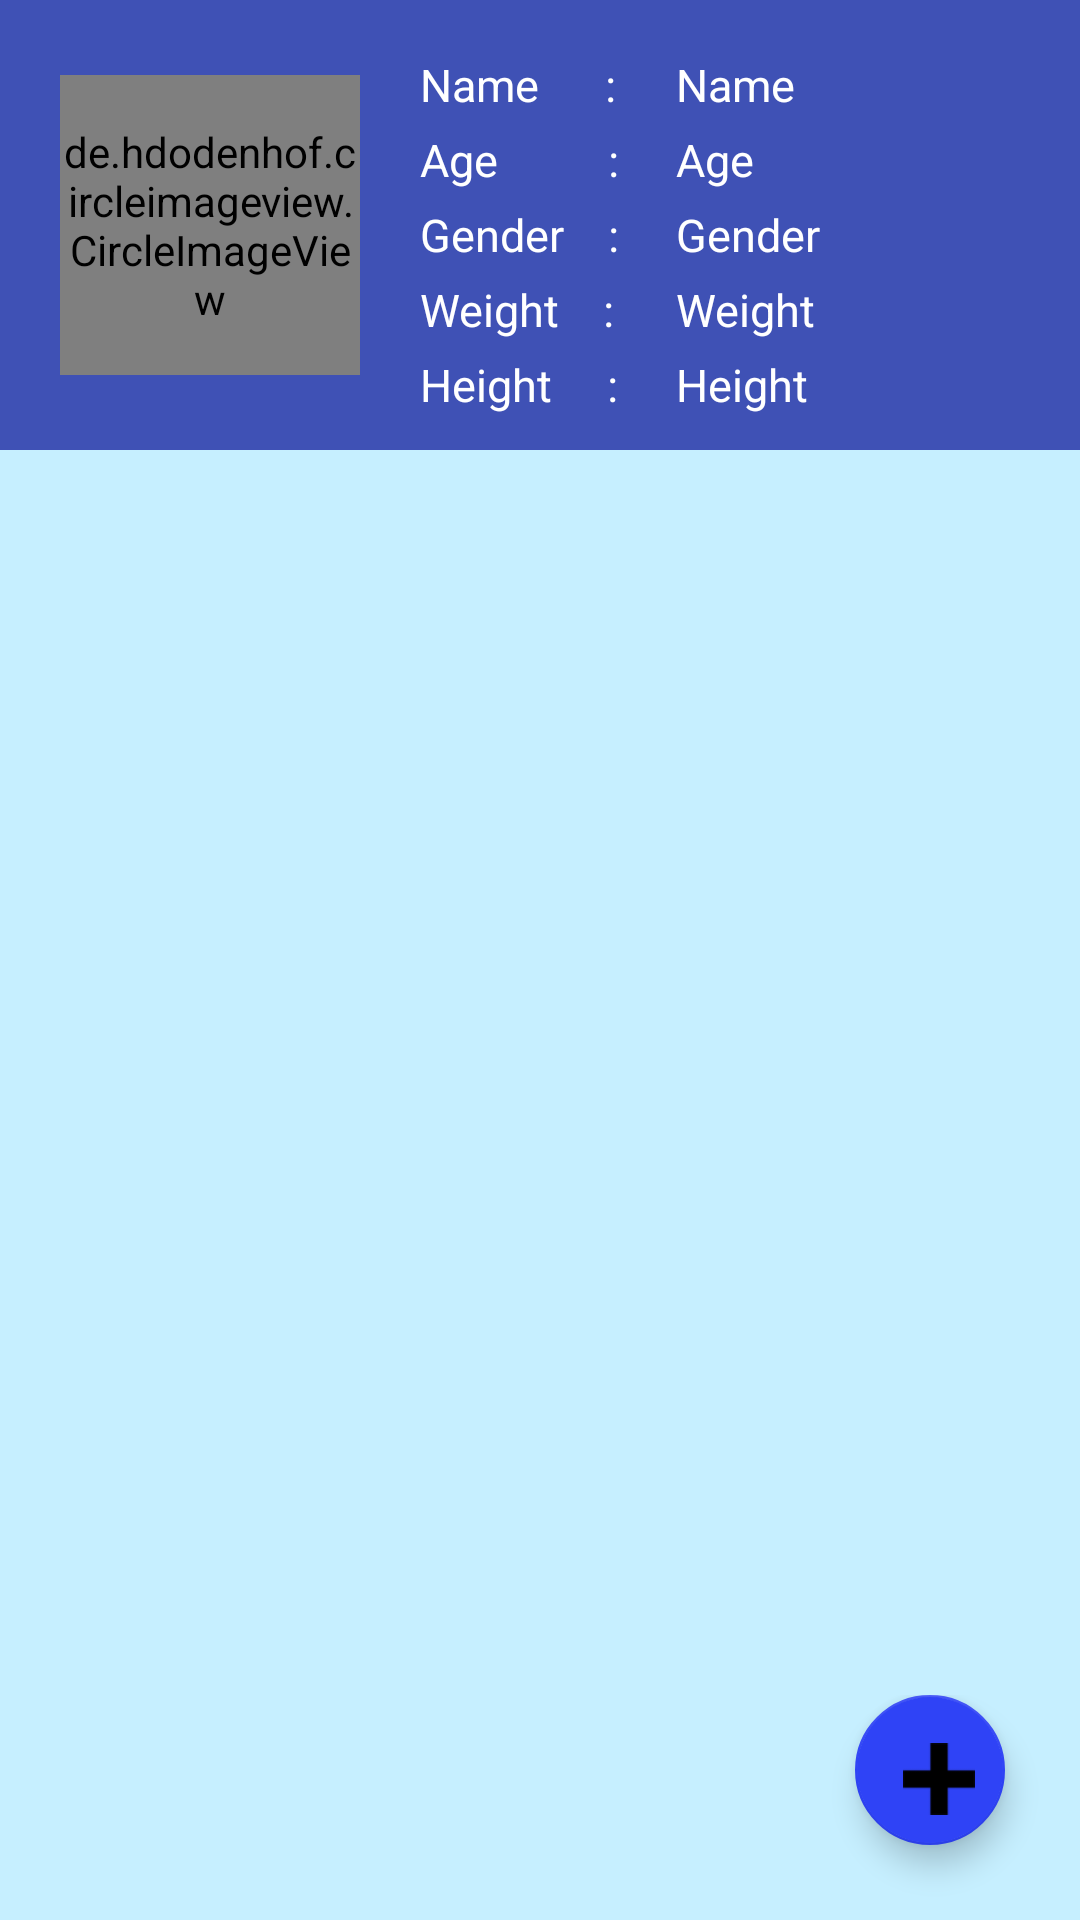

Where to tap for icons on this 1080 × 1920 app screen, as (x=x, y=y):
add: (x=930, y=1770)
